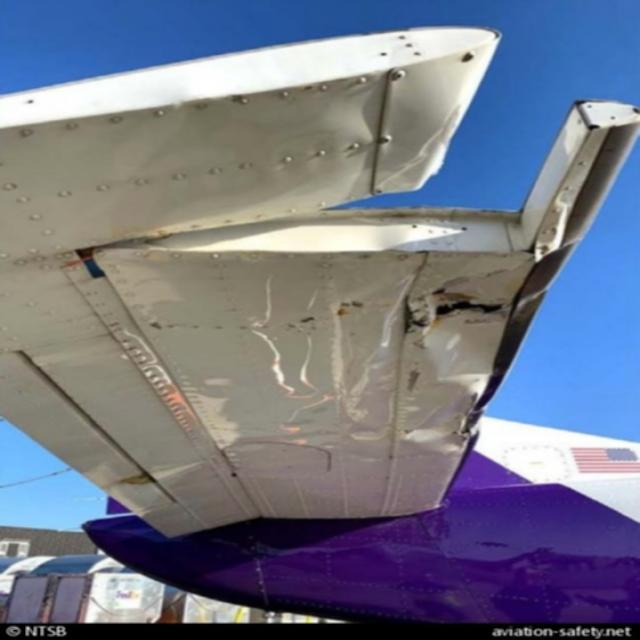dent: (405, 411, 471, 459)
